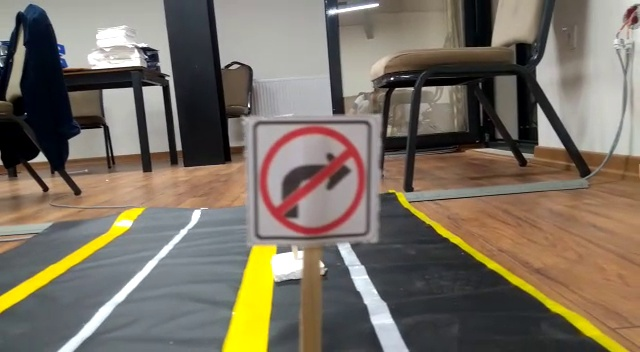saga_donulmez: (254, 121, 371, 236)
